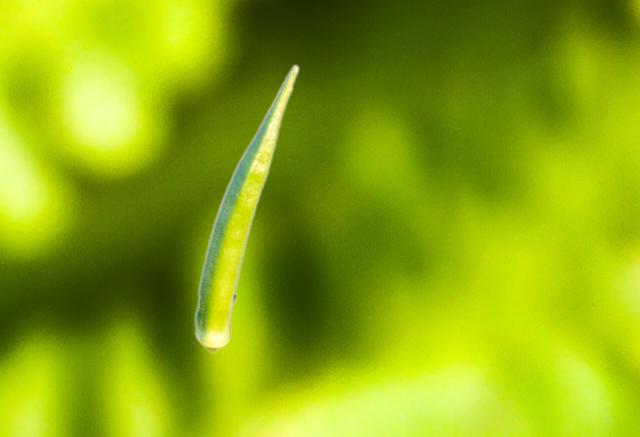okra: (194, 63, 299, 353)
